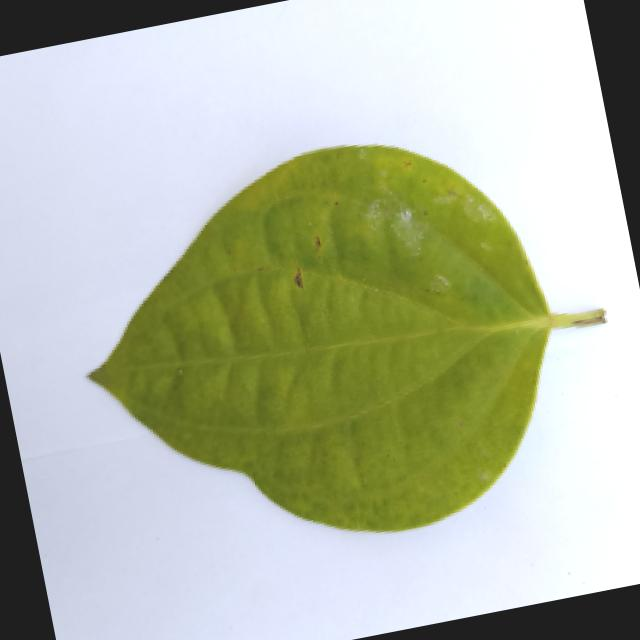slow-decline: (49, 97, 640, 584)
